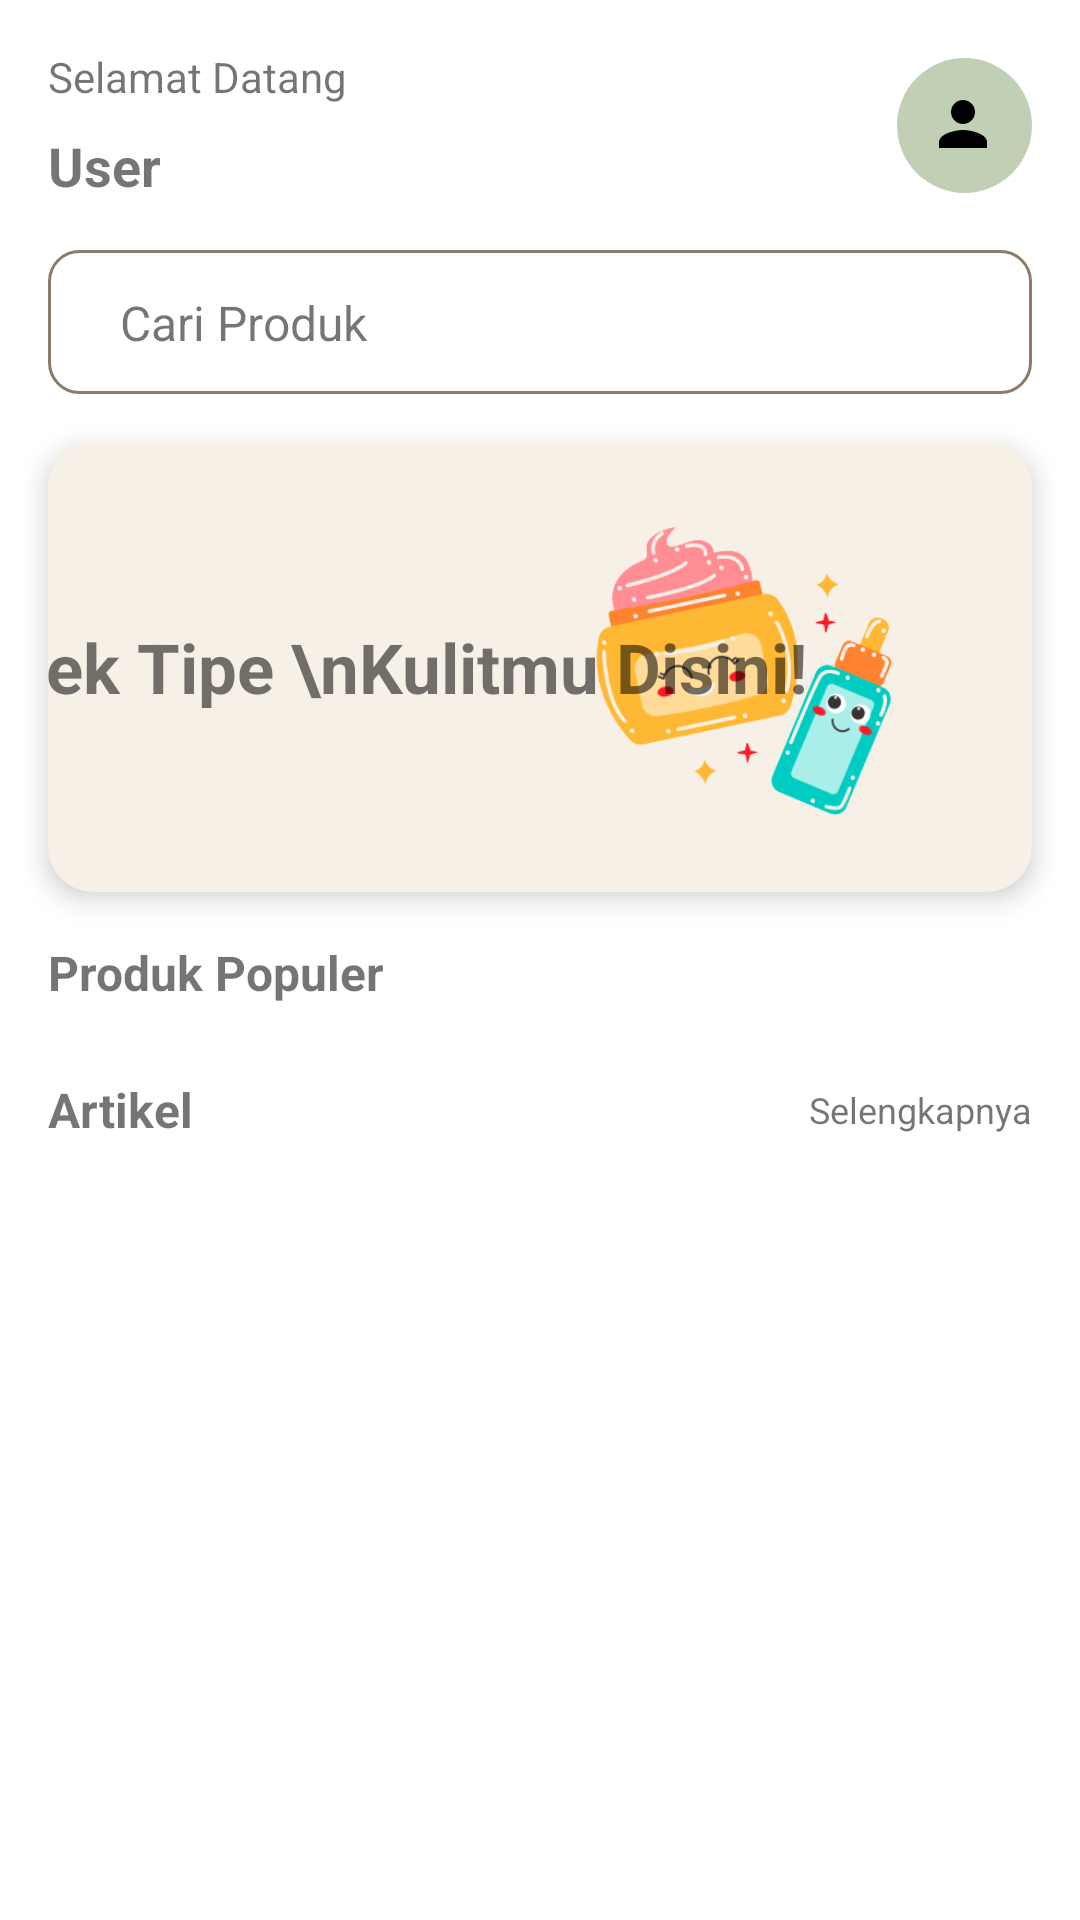

Icon bounding boxes for this 1080 x 1920 phone screenshot, format (x1, y1, x2, y2):
profile rounded: (897, 58, 1032, 193)
skincare animation: (564, 527, 892, 815)
